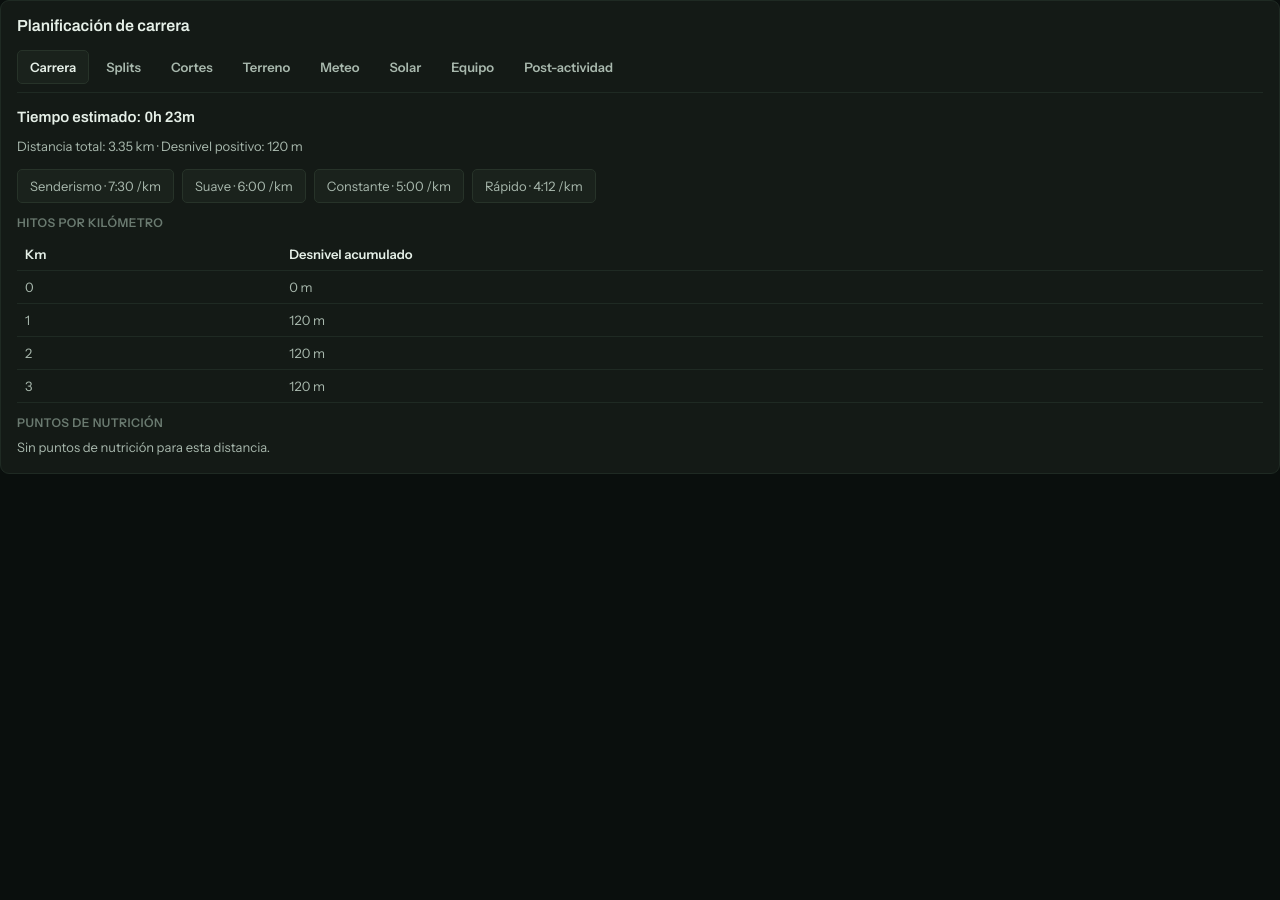
Test: RacePlanSection › does not request weather until the button is clicked, then renders the four points
Click the tab "Meteo" at (340, 67), box [307, 50, 373, 84]
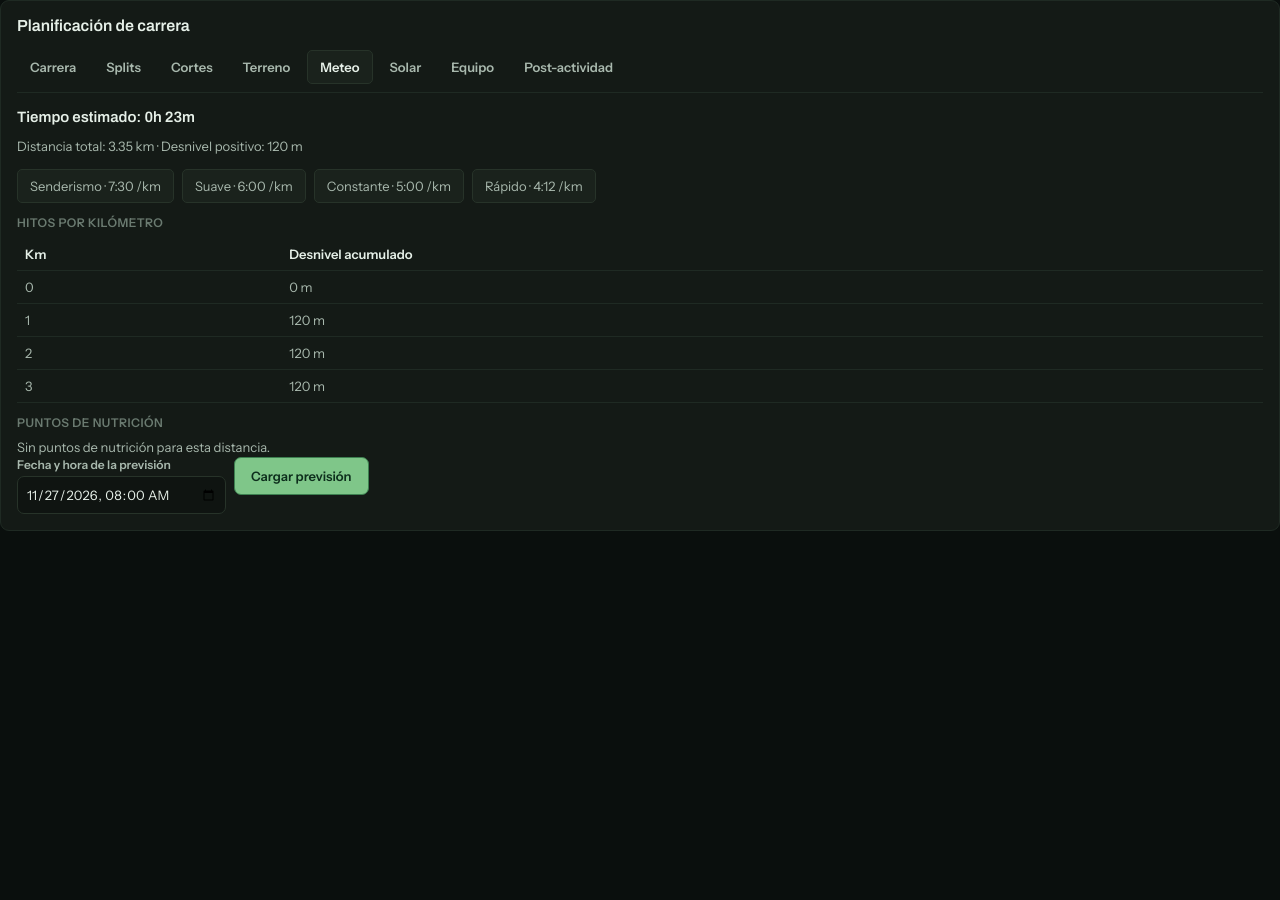
Click the button "Cargar previsión" at (301, 476), box [234, 457, 368, 495]
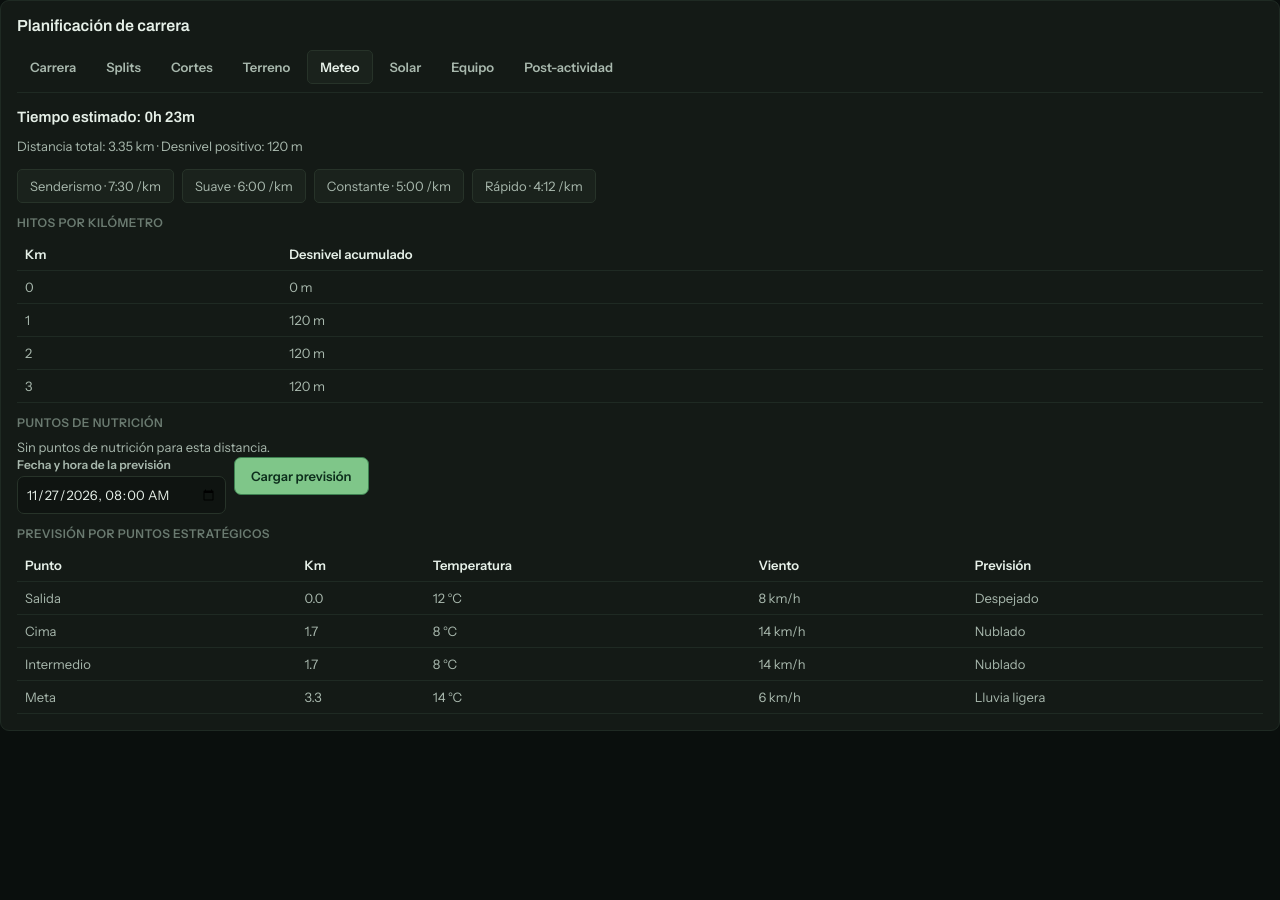
Result: the text "Salida" is shown at [17, 582, 297, 614]
Result: the text "Cima" is shown at [17, 614, 297, 648]
Result: the text "Intermedio" is shown at [17, 648, 297, 680]
